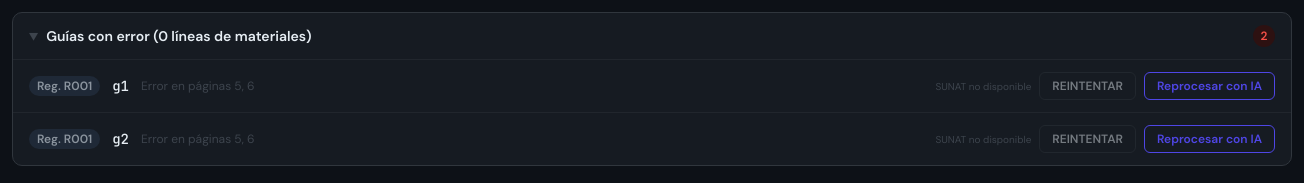
Scenario: ErroredGuiasPanel — per-guía in-flight reactivity (REV-R18, FIX #4) › toggles the spinner for the clicked guía and leaves others idle
The image size is (1304, 183).
# Click the FIRST guía's button — its handler starts a never-resolving call.
Click the button "Reprocesar con IA" in the row of "g1": [1210, 86] box [1144,72,1275,100]
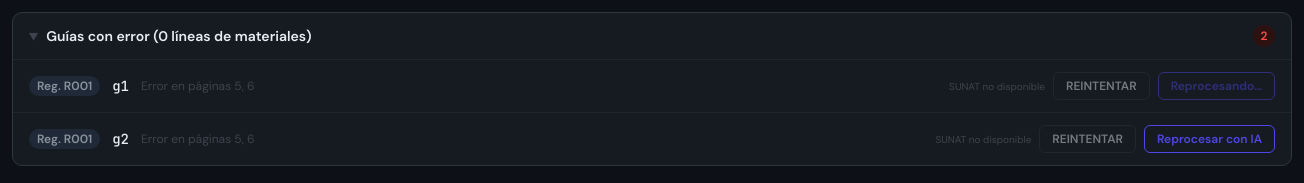
Check: the button "Reprocesar con IA" is shown, box [1144,125,1275,153]
Check: the button "Reprocesando…" is shown, box [1158,72,1275,100]
Check: the button "Reprocesando…" is disabled, box [1158,72,1275,100]
